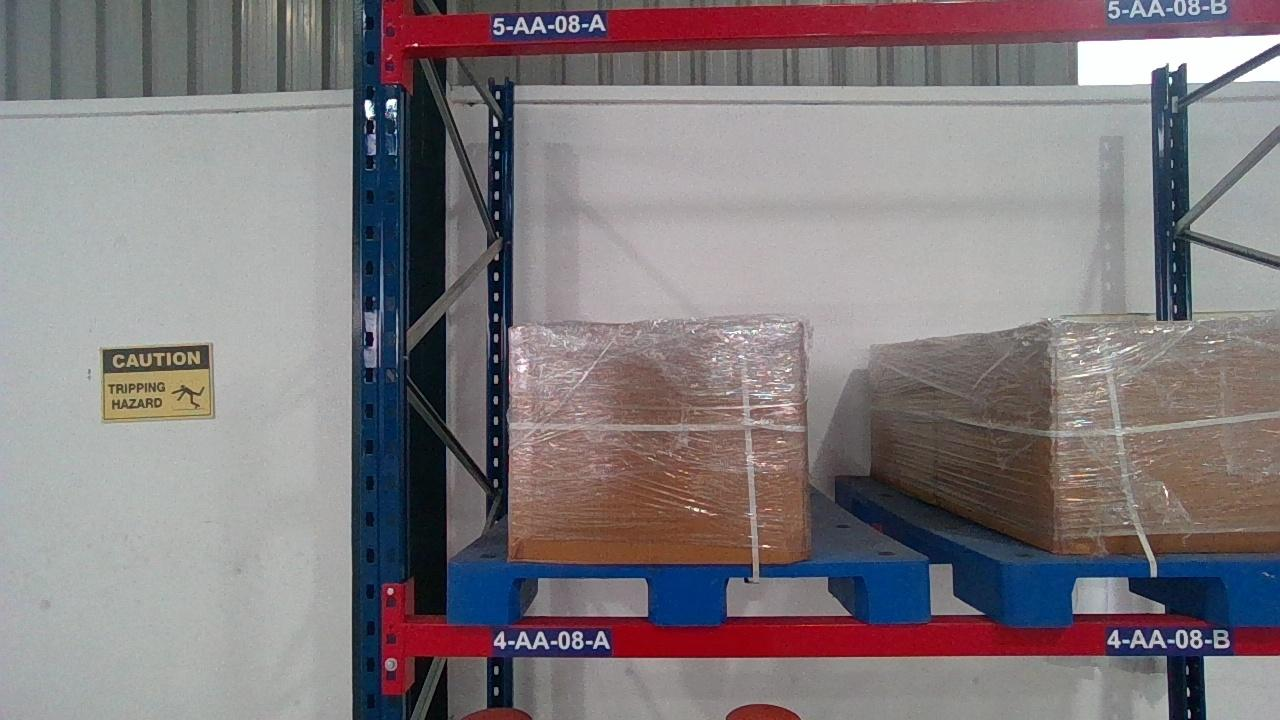h_rack: (399, 0, 1276, 45), (404, 619, 1277, 655)
small_pallet: (441, 563, 935, 622), (1008, 561, 1279, 621)
